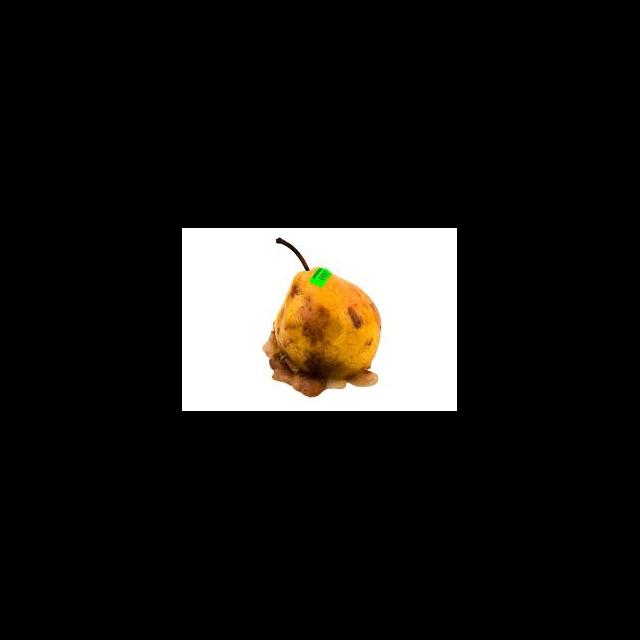food_waste: (260, 232, 395, 403)
